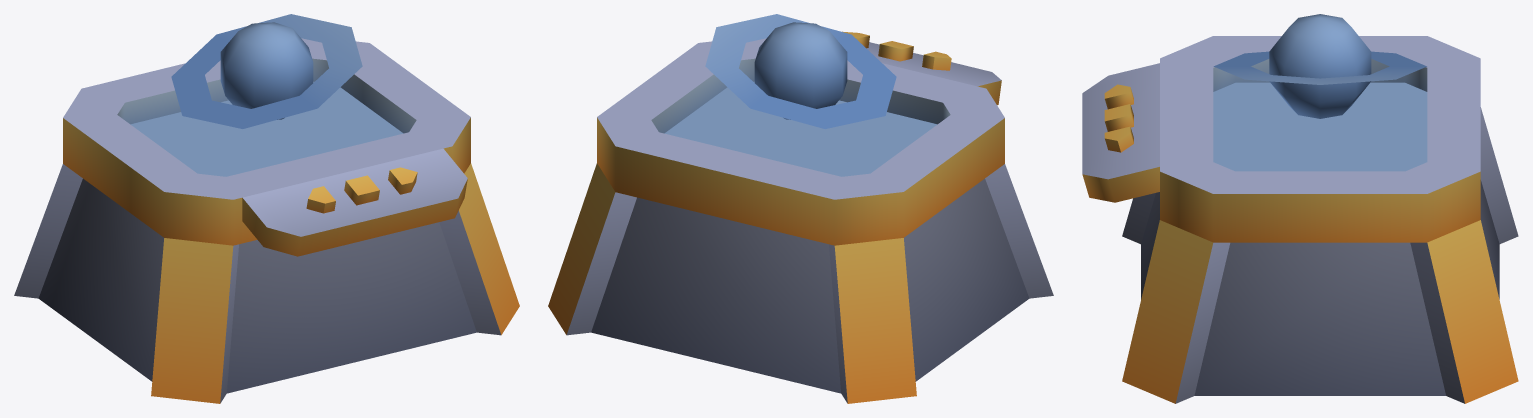
File: table-display-small.glb
The picture shows the model from 3 angles, left to right: view 1: azimuth 30°, elevation 25°; view 2: azimuth 150°, elevation 25°; view 3: azimuth 270°, elevation 25°; orthographic projection. The views are drawn at different scales.
Parts seen in each view (by area): view 1: table-display-small; view 2: table-display-small; view 3: table-display-small.
Boxes of the visible parts, bbox=[...] form: table-display-small: bbox=[14, 14, 519, 403]; table-display-small: bbox=[548, 14, 1053, 403]; table-display-small: bbox=[1082, 14, 1518, 403].
Size of the model in its own units: 0.8414 by 0.6 by 0.8156.
